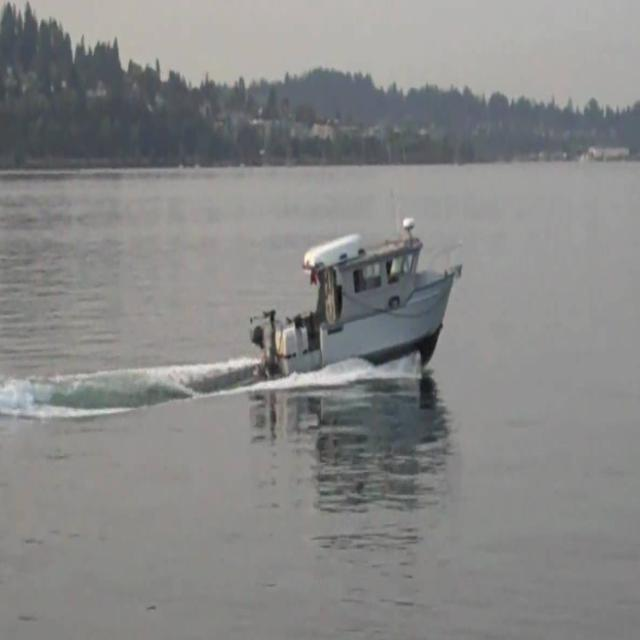houseboat: (252, 210, 459, 380)
